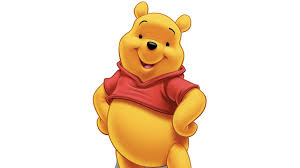Winnie: (109, 1, 196, 94)
